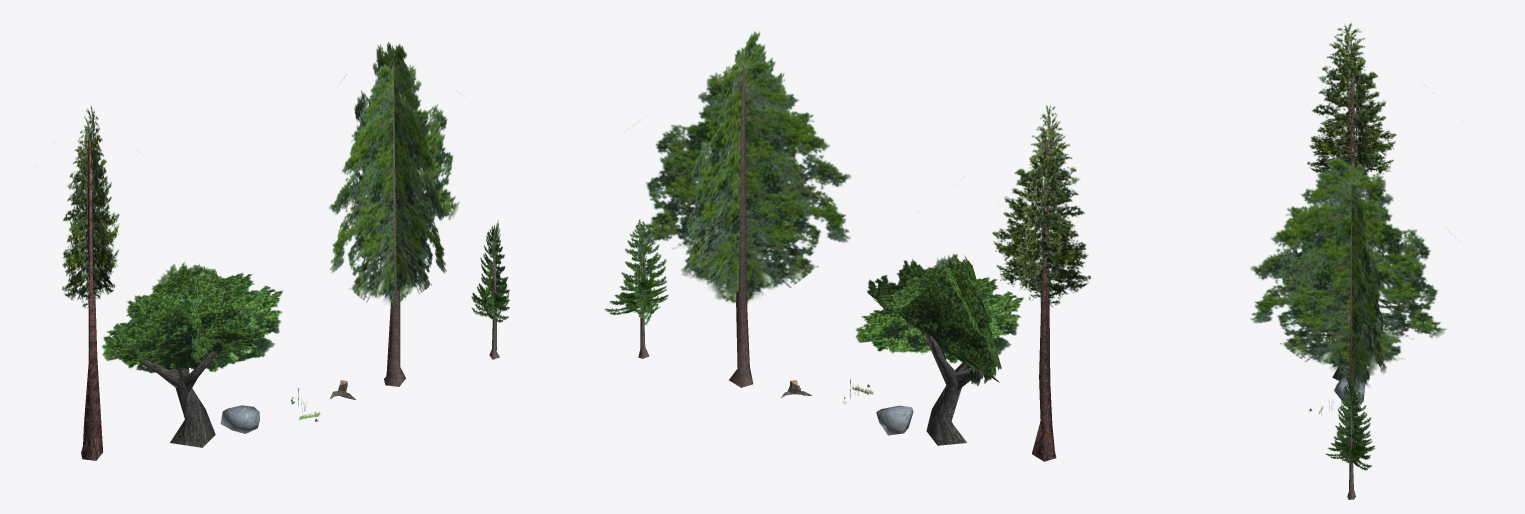
Rendered from Rock.glb.
3 renders of one model, left to right at view 1: azimuth 30°, elevation 25°; view 2: azimuth 150°, elevation 25°; view 3: azimuth 270°, elevation 25°, orthographic. The views are drawn at different scales.
Visible parts, largest first — view 1: PSX_Tree3, PSX_Tree2, PSX_Tree4, PSX_Tree1, PSX_Rock; view 2: PSX_Tree3, PSX_Tree2, PSX_Tree4, PSX_Tree1, PSX_Rock; view 3: PSX_Tree3, PSX_Tree4, PSX_Tree1, PSX_Tree2, PSX_Rock.
Boxes of the visible parts, <box> form: PSX_Tree3: <box>329,42,463,386</box>; PSX_Tree2: <box>101,262,282,447</box>; PSX_Tree4: <box>53,106,140,460</box>; PSX_Tree1: <box>471,220,509,359</box>; PSX_Rock: <box>220,405,259,433</box>; PSX_Tree3: <box>619,31,850,387</box>; PSX_Tree2: <box>856,253,1023,445</box>; PSX_Tree4: <box>918,104,1091,461</box>; PSX_Tree1: <box>604,219,668,358</box>; PSX_Rock: <box>876,405,913,435</box>; PSX_Tree3: <box>1250,156,1458,459</box>; PSX_Tree4: <box>1307,23,1463,192</box>; PSX_Tree1: <box>1325,381,1374,499</box>; PSX_Tree2: <box>1276,243,1384,380</box>; PSX_Rock: <box>1334,377,1365,402</box>.
Bounding box in the file's own units: 54.04 × 35.98 × 31.41.
14 materials, 14 textured.
